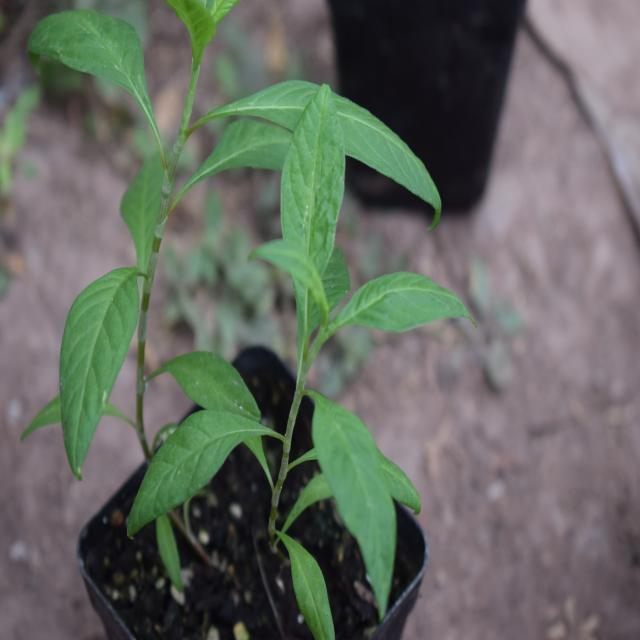white_smart_weed: (153, 77, 494, 589)
